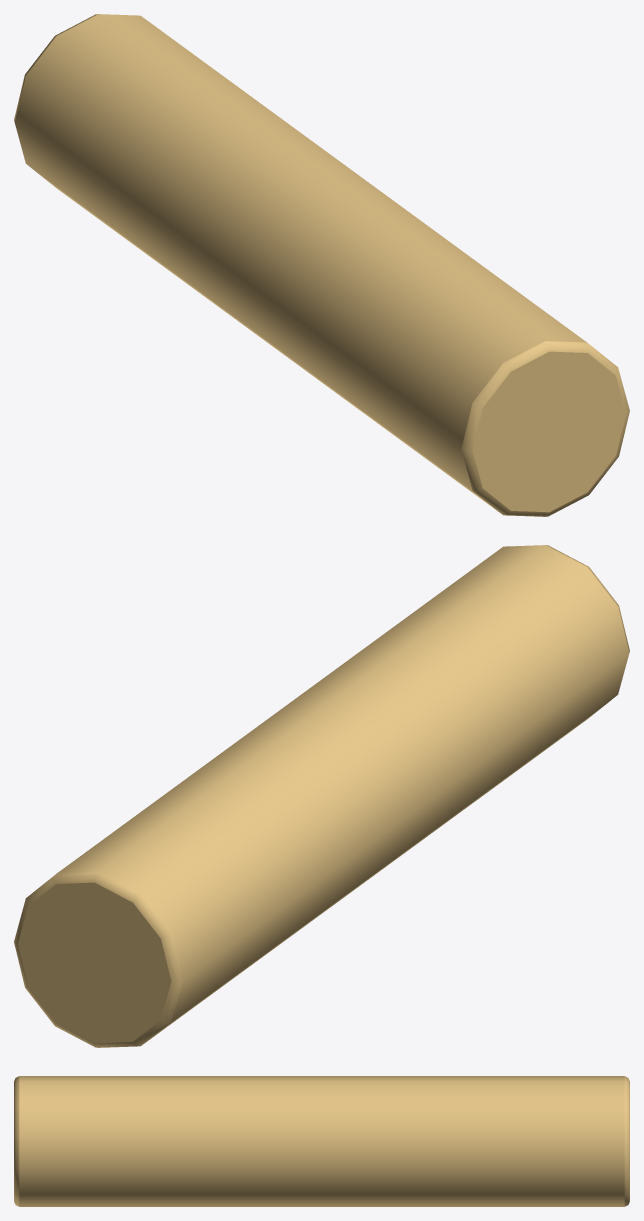
File: casing_556.glb
3 views of the same model, one above another, from view 1: azimuth 30°, elevation 25°; view 2: azimuth 150°, elevation 25°; view 3: azimuth 270°, elevation 25° (orthographic). The views are drawn at different scales.
Parts seen in each view (by area): view 1: Casing; view 2: Casing; view 3: Casing.
Boxes of the visible parts, box(x1,y1,x2,y2) form: Casing: box(14, 14, 629, 516); Casing: box(14, 545, 629, 1047); Casing: box(14, 1076, 629, 1206).
Size of the model in its own units: 0.0096 by 0.0096 by 0.045.
